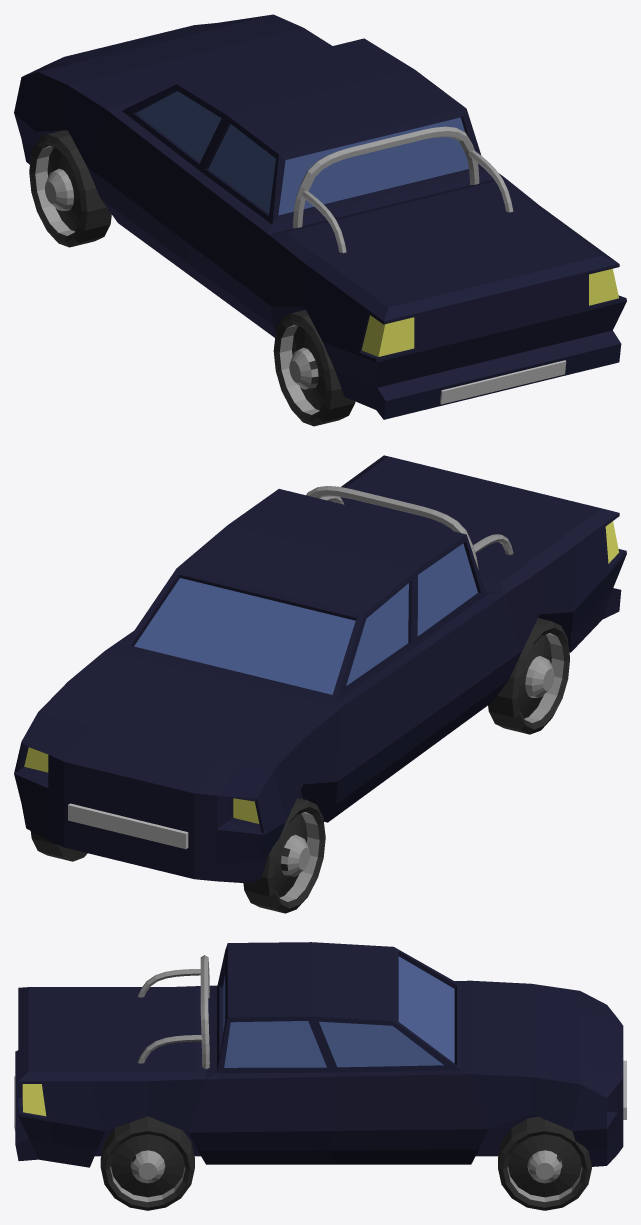
Rendered from TruckBlue.fbx.
3 views of the same model, one above another, from view 1: azimuth 30°, elevation 25°; view 2: azimuth 150°, elevation 25°; view 3: azimuth 270°, elevation 25° (orthographic). The views are drawn at different scales.
Parts seen in each view (by area): view 1: Car2.001; view 2: Car2.001; view 3: Car2.001.
Part boxes in pixels (left/top/right/bottom): Car2.001: left=14, top=14, right=626, bottom=426; Car2.001: left=14, top=455, right=626, bottom=913; Car2.001: left=14, top=942, right=626, bottom=1210.
Bounding box in the file's own units: 122 × 105 × 314.
